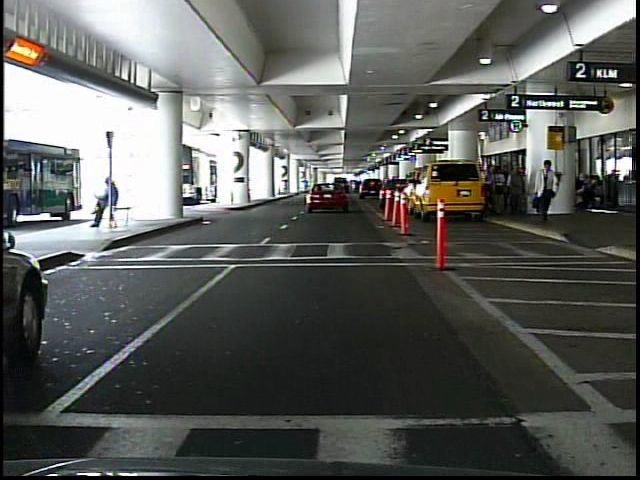person: (531, 157, 560, 221), (509, 163, 528, 219), (493, 166, 508, 214)
